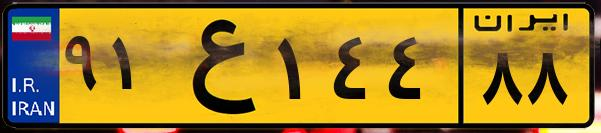1: (270, 28, 330, 110), (110, 28, 158, 98)
4: (385, 28, 445, 110), (330, 28, 385, 110)
8: (475, 38, 525, 113), (525, 38, 570, 115)
9: (57, 26, 110, 100)
ع: (158, 12, 270, 120)
